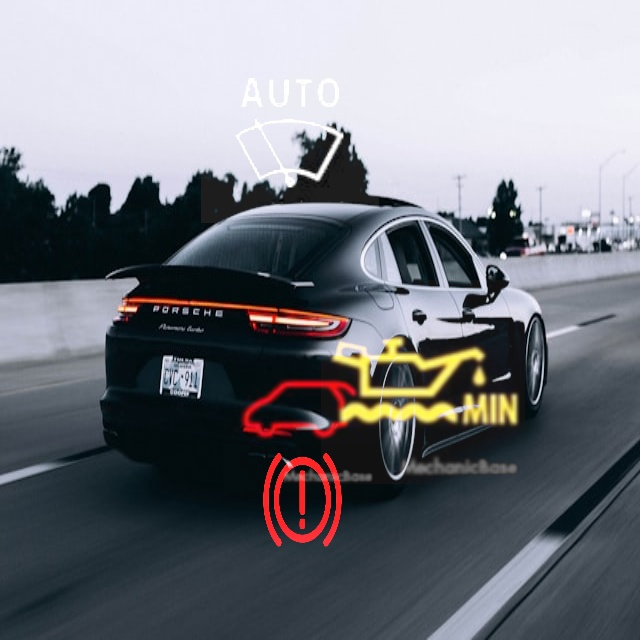symbol: (321, 280, 525, 484), (201, 45, 379, 223), (224, 418, 380, 574), (223, 334, 378, 489)
